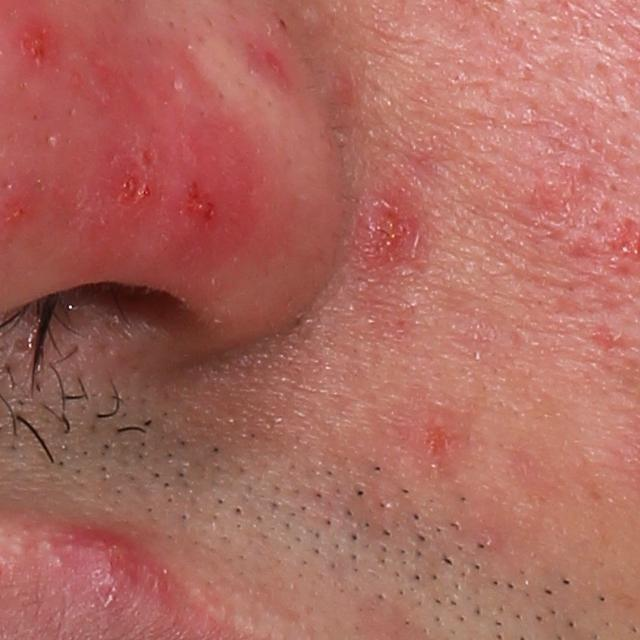papule: (67, 522, 154, 604), (351, 194, 419, 272), (408, 403, 457, 469), (8, 23, 68, 74)
